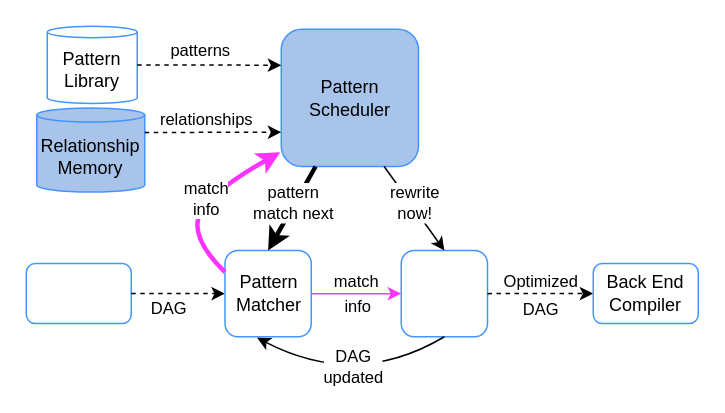
Some shapes in this 725 by 413 pixel diagram are drawn without their labels. Each missing label, with the box of its shape:
Front End Compiler: (25, 262, 131, 324)
Pattern Rewriter: (400, 249, 488, 337)
